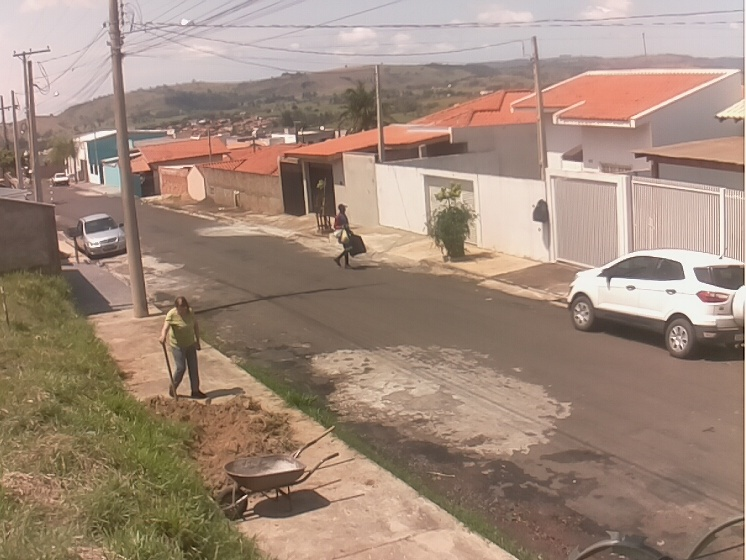person: (159, 296, 207, 400), (332, 202, 359, 270)
